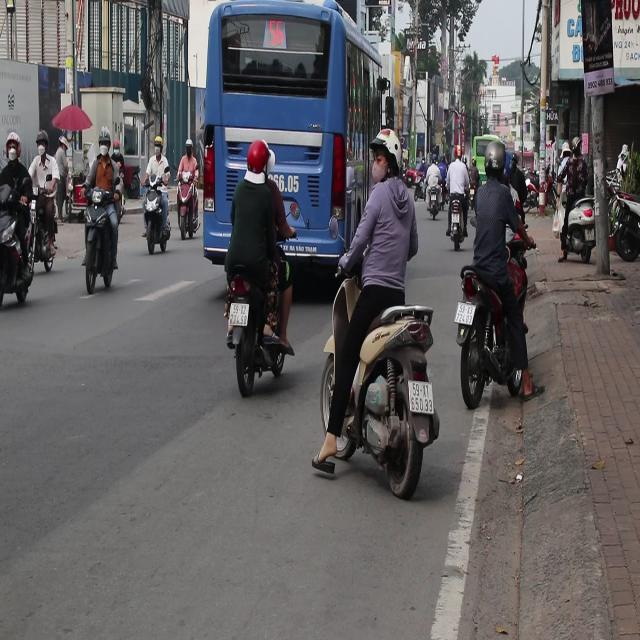bus: (195, 6, 388, 261), (472, 136, 504, 175)
motorbike: (324, 301, 420, 501), (455, 262, 559, 443), (225, 256, 299, 414), (0, 182, 36, 306), (79, 208, 127, 299), (168, 157, 206, 233), (148, 188, 177, 277), (31, 197, 58, 264), (444, 206, 464, 243), (428, 182, 442, 220), (415, 174, 426, 202), (404, 167, 418, 186), (441, 185, 450, 213)
